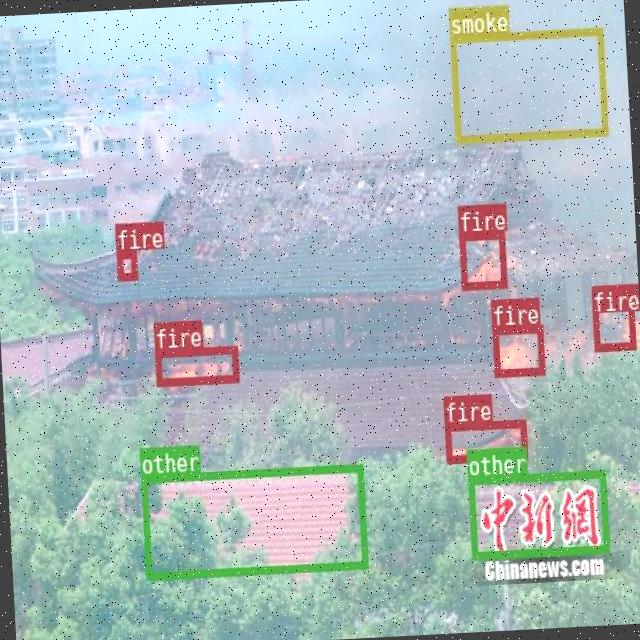fire: (444, 418, 526, 462), (154, 346, 238, 384), (590, 282, 635, 350), (458, 230, 506, 288), (492, 324, 544, 375), (116, 250, 137, 280)
smoke: (450, 27, 608, 142)
